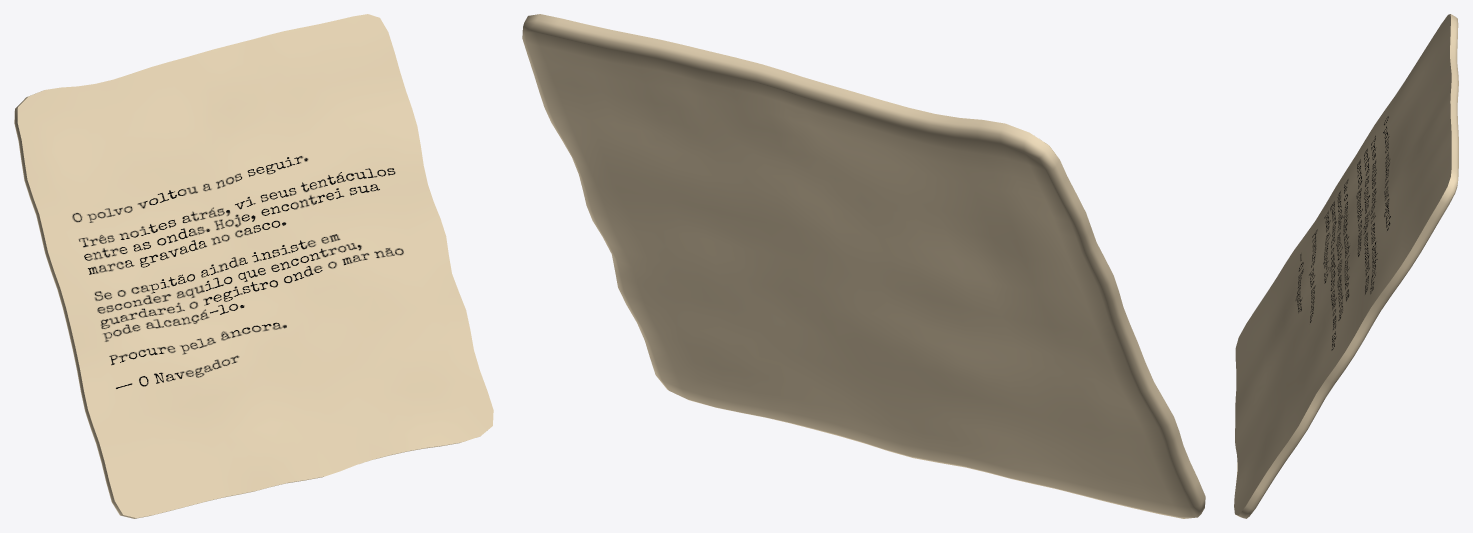
Rendered from bilhetePuzzle1.fbx.
3 renders of one model, left to right at view 1: azimuth 30°, elevation 25°; view 2: azimuth 150°, elevation 25°; view 3: azimuth 270°, elevation 25°, orthographic. The views are drawn at different scales.
Parts seen in each view (by area): view 1: Plane.001; view 2: Plane.001; view 3: Plane.001.
Boxes of the visible parts, left/top/right/bottom form: Plane.001: left=14, top=14, right=493, bottom=518; Plane.001: left=522, top=14, right=1205, bottom=518; Plane.001: left=1234, top=14, right=1458, bottom=518.
Bounding box in the file's own units: 62.34 × 54.9 × 32.46.
Materials: 2 (1 with a texture image).
